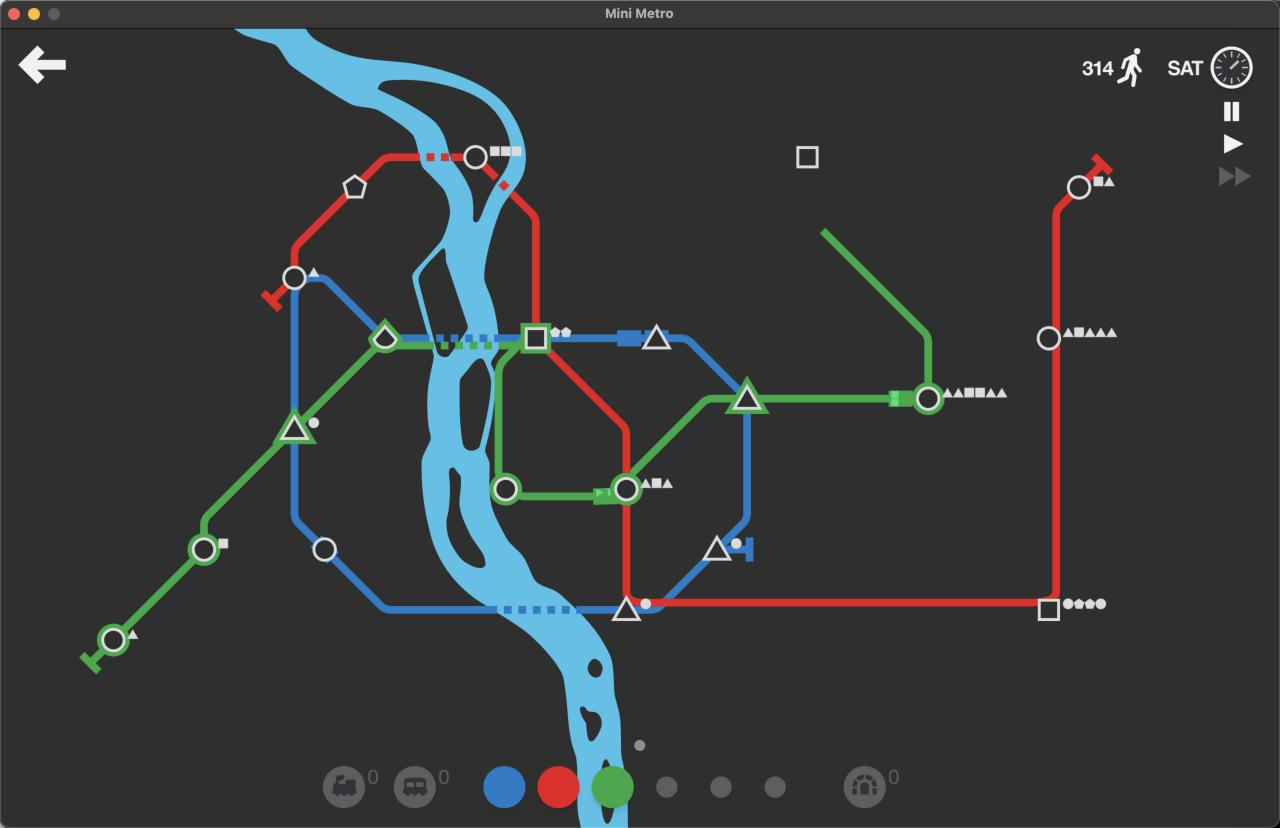CIRCLE: (97, 624, 129, 657), (914, 382, 945, 415), (188, 534, 219, 567), (611, 473, 642, 505), (491, 474, 520, 505), (1035, 325, 1062, 352), (311, 536, 337, 563), (463, 144, 489, 170), (1066, 174, 1092, 200), (282, 265, 307, 290)
PENTAGON: (342, 174, 367, 200)
SQUARE: (520, 322, 552, 354), (795, 145, 818, 169), (1037, 598, 1060, 621)
TRIANGLE: (727, 377, 767, 414), (278, 412, 315, 444), (640, 323, 672, 351), (701, 534, 733, 562), (610, 595, 642, 623)
WEDGE: (369, 320, 401, 352)
